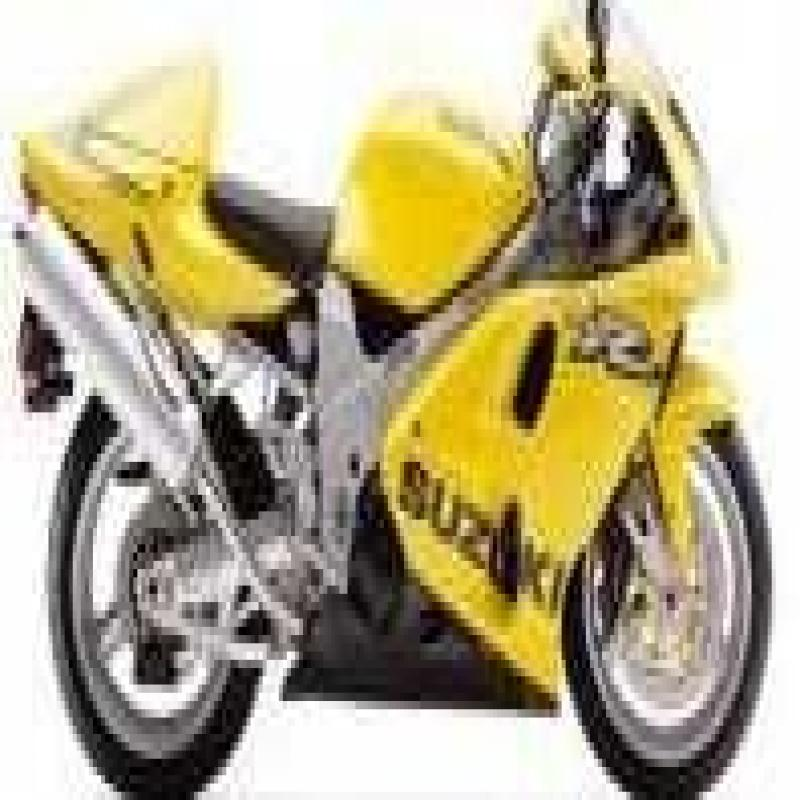bike: (7, 18, 800, 800)
